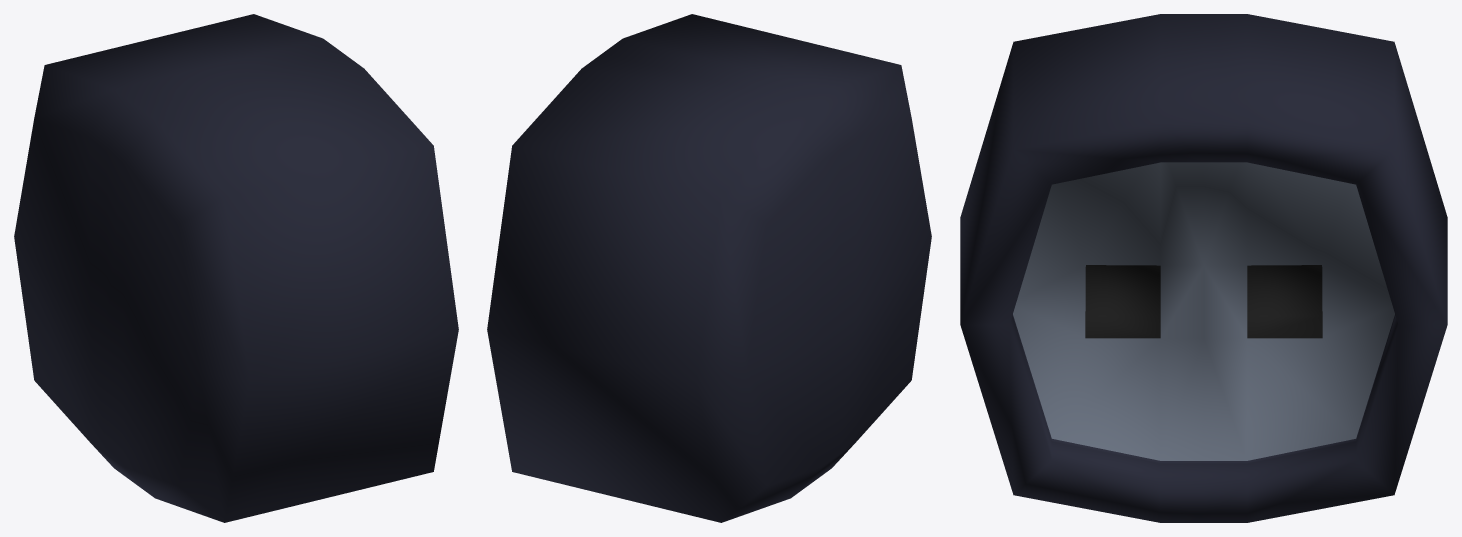
File: port.fbx
3 views of the same model, side by side, from view 1: azimuth 30°, elevation 25°; view 2: azimuth 150°, elevation 25°; view 3: azimuth 270°, elevation 25° (orthographic). The views are drawn at different scales.
Visible parts, largest first — view 1: port; view 2: port; view 3: port.
Part boxes in pixels (x1,y1,x2,y2): port: (14,14,458,522); port: (487,14,931,522); port: (960,14,1447,522).
Size of the model in its own units: 140 by 83.48 by 127.
